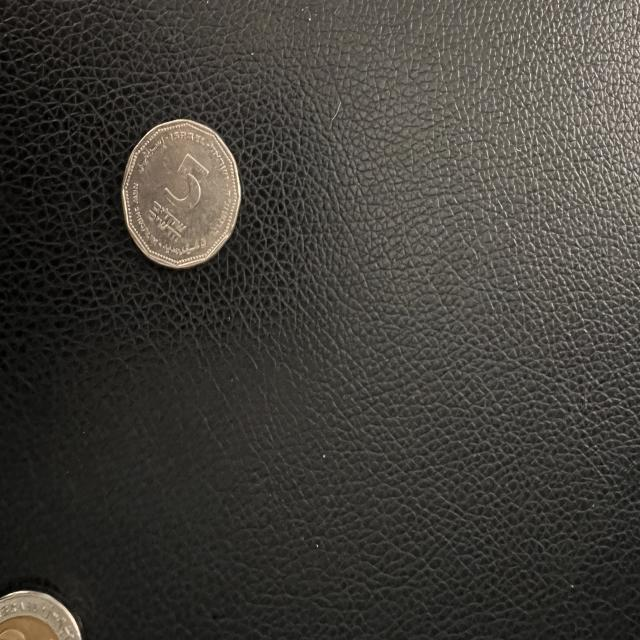5-shekel: (121, 118, 244, 269)
